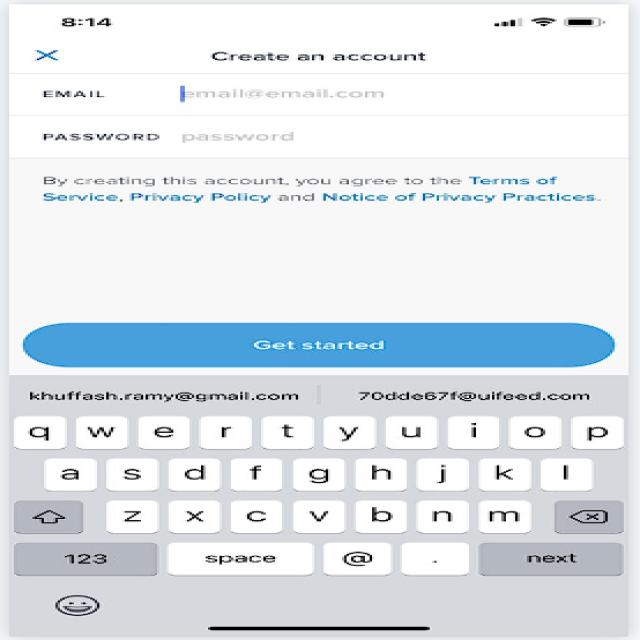button: (18, 317, 618, 376)
icon button: (9, 36, 77, 69)
input: (6, 111, 640, 159), (4, 74, 638, 116)
spacer: (18, 223, 615, 315)
text: (21, 169, 613, 214), (206, 45, 458, 66)
